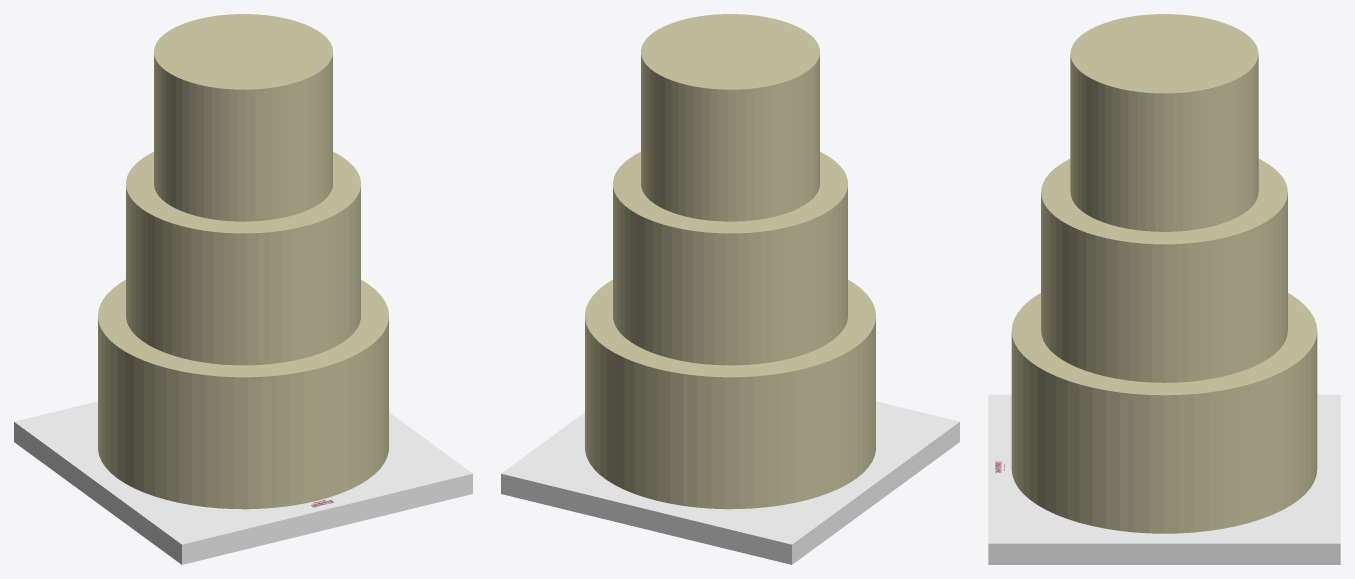
Rendered from cake_tier3_10-8-6_layers3_v35.glb.
3 renders of one model, left to right at view 1: azimuth 30°, elevation 25°; view 2: azimuth 150°, elevation 25°; view 3: azimuth 270°, elevation 25°, orthographic. The views are drawn at different scales.
Visible parts, largest first — view 1: Tier1_10in, Tier2_8in, Tier3_6in, Board; view 2: Tier1_10in, Tier2_8in, Tier3_6in, Board; view 3: Tier1_10in, Tier2_8in, Tier3_6in, Board.
Part boxes in pixels (x1=…): Tier1_10in: x1=98, y1=279, x2=388, y2=509; Tier2_8in: x1=126, y1=152, x2=360, y2=365; Tier3_6in: x1=154, y1=14, x2=332, y2=221; Board: x1=14, y1=401, x2=472, y2=564; Tier1_10in: x1=585, y1=279, x2=875, y2=509; Tier2_8in: x1=613, y1=152, x2=847, y2=365; Tier3_6in: x1=641, y1=14, x2=819, y2=221; Board: x1=501, y1=401, x2=959, y2=564; Tier1_10in: x1=1011, y1=293, x2=1317, y2=533; Tier2_8in: x1=1041, y1=159, x2=1287, y2=382; Tier3_6in: x1=1070, y1=14, x2=1258, y2=231; Board: x1=988, y1=394, x2=1340, y2=564.
Bounding box in the file's own units: 0.3 × 0.41 × 0.3.
